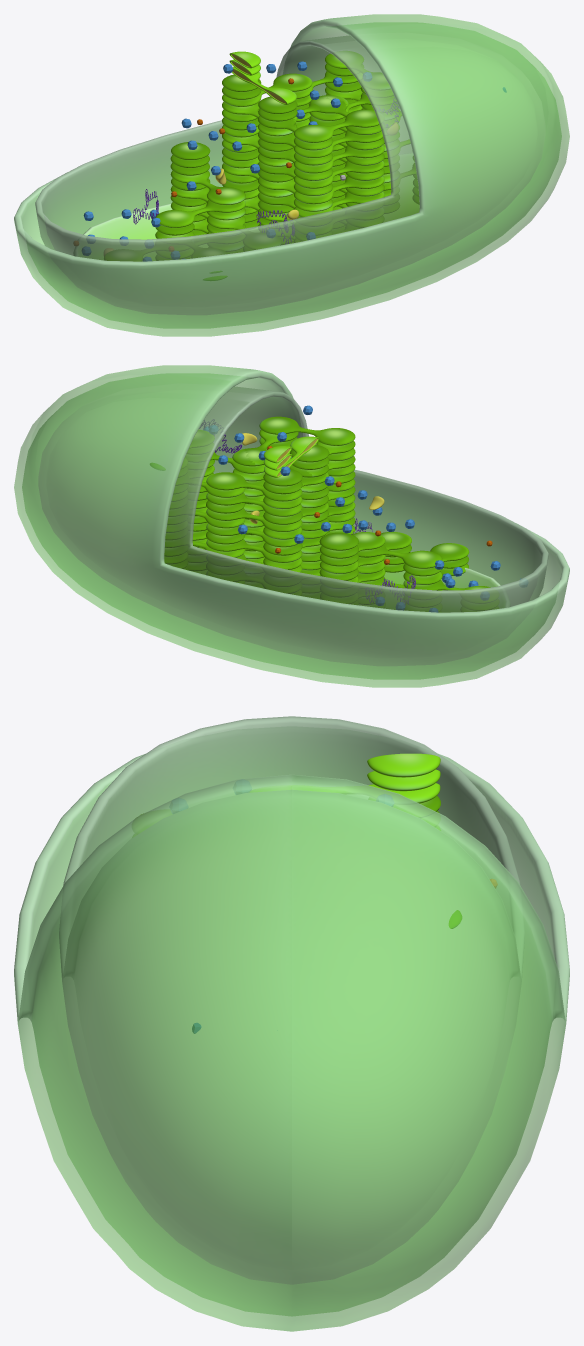
Rendered from chloroplast.glb.
3 views of the same model, one above another, from view 1: azimuth 30°, elevation 25°; view 2: azimuth 150°, elevation 25°; view 3: azimuth 270°, elevation 25° (orthographic). The views are drawn at different scales.
Visible parts, largest first — view 1: Box142; view 2: Box142; view 3: Box142.
Part boxes in pixels (x1=…): Box142: x1=14, y1=14, x2=569, y2=336; Box142: x1=14, y1=365, x2=569, y2=687; Box142: x1=14, y1=716, x2=569, y2=1331.
Bounding box in the file's own units: 2.26 × 1.08 × 1.09.
Materials: 1 (1 with a texture image).
